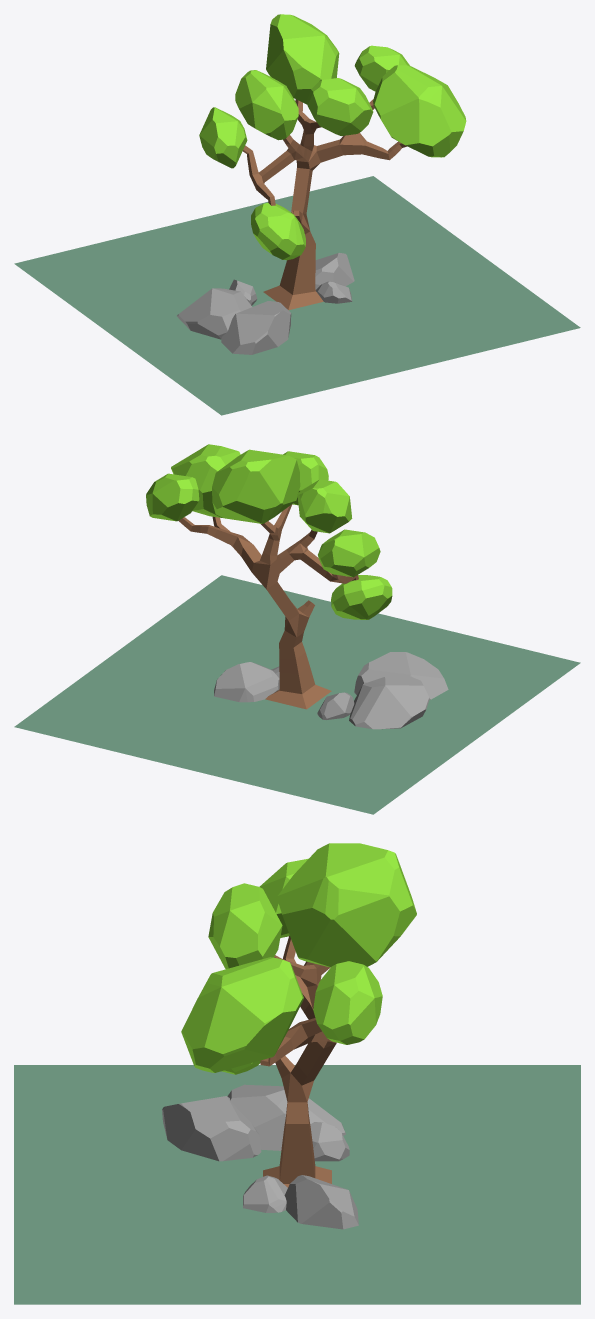
The model's file is tree.fbx.
The picture shows the model from 3 angles, top to bottom: view 1: azimuth 30°, elevation 25°; view 2: azimuth 150°, elevation 25°; view 3: azimuth 270°, elevation 25°; orthographic projection. The views are drawn at different scales.
Visible parts, largest first — view 1: Plane, Vert, Icosphere.007, Icosphere.001, Icosphere.005, Icosphere.003, Icosphere.010, Icosphere.013, Icosphere.006, Icosphere.011, Icosphere.009, Icosphere.002 (+1 smaller); view 2: Plane, Vert, Icosphere.001, Icosphere.006, Icosphere.005, Icosphere.011, Icosphere.013, Icosphere.010, Icosphere.007, Icosphere.002, Icosphere.009, Icosphere.003 (+1 smaller); view 3: Plane, Icosphere.001, Icosphere.007, Vert, Icosphere.010, Icosphere.003, Icosphere.009, Icosphere.006, Icosphere.002, Icosphere.004, Icosphere.008, Icosphere.005.
Part boxes in pixels (x1=…): Plane: x1=14, y1=176, x2=580, y2=415; Vert: x1=243, y1=99, x2=406, y2=310; Icosphere.007: x1=373, y1=65, x2=466, y2=157; Icosphere.001: x1=266, y1=14, x2=339, y2=104; Icosphere.005: x1=235, y1=70, x2=298, y2=140; Icosphere.003: x1=306, y1=78, x2=373, y2=135; Icosphere.010: x1=221, y1=301, x2=291, y2=354; Icosphere.013: x1=251, y1=203, x2=305, y2=260; Icosphere.006: x1=177, y1=288, x2=251, y2=339; Icosphere.011: x1=199, y1=107, x2=247, y2=168; Icosphere.009: x1=354, y1=45, x2=409, y2=91; Icosphere.002: x1=315, y1=253, x2=354, y2=289; Plane: x1=14, y1=575, x2=580, y2=814; Vert: x1=178, y1=504, x2=358, y2=709; Icosphere.001: x1=212, y1=449, x2=300, y2=523; Icosphere.006: x1=349, y1=673, x2=429, y2=729; Icosphere.005: x1=297, y1=479, x2=352, y2=533; Icosphere.011: x1=318, y1=529, x2=380, y2=577; Icosphere.013: x1=331, y1=575, x2=392, y2=619; Icosphere.010: x1=354, y1=652, x2=448, y2=699; Icosphere.007: x1=171, y1=444, x2=240, y2=517; Icosphere.002: x1=214, y1=662, x2=279, y2=702; Icosphere.009: x1=146, y1=473, x2=199, y2=521; Icosphere.003: x1=283, y1=451, x2=328, y2=505; Plane: x1=14, y1=1065, x2=580, y2=1304; Icosphere.001: x1=277, y1=843, x2=416, y2=967; Icosphere.007: x1=181, y1=957, x2=303, y2=1072; Vert: x1=259, y1=935, x2=336, y2=1187; Icosphere.010: x1=162, y1=1096, x2=261, y2=1161; Icosphere.003: x1=208, y1=883, x2=282, y2=968; Icosphere.009: x1=313, y1=961, x2=382, y2=1044; Icosphere.006: x1=227, y1=1084, x2=345, y2=1150; Icosphere.002: x1=284, y1=1175, x2=358, y2=1229; Icosphere.004: x1=243, y1=1175, x2=287, y2=1212; Icosphere.008: x1=310, y1=1122, x2=349, y2=1161; Icosphere.005: x1=259, y1=858, x2=308, y2=937.
Size of the model in its own units: 517 by 402 by 517.
